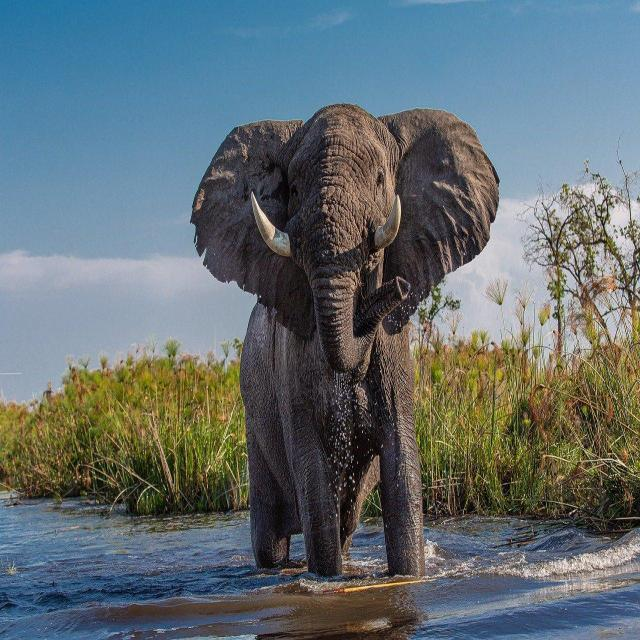Elephant: (192, 101, 500, 573)
